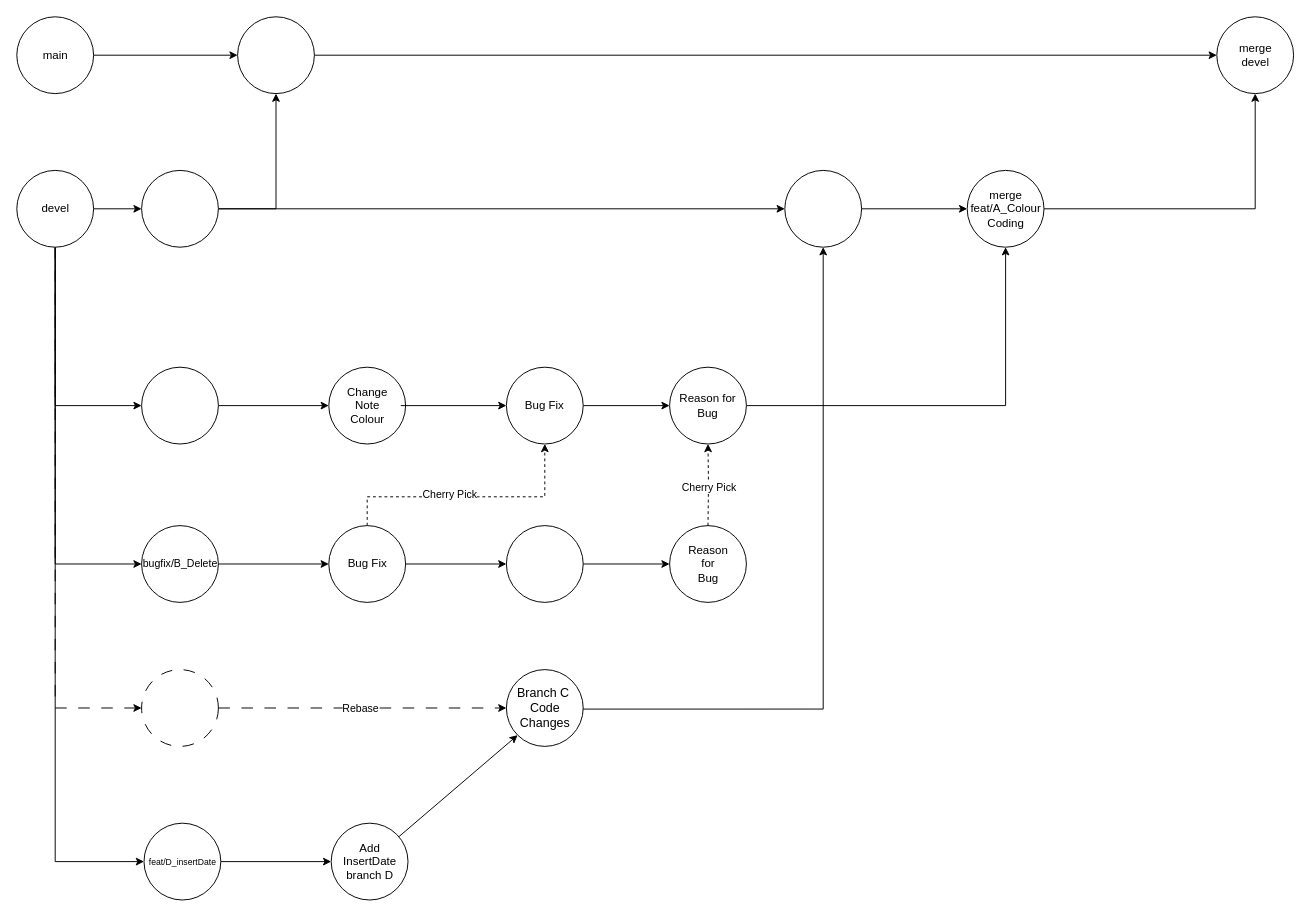
Some shapes in this 1310 by 917 pixel diagram are drawn without their labels. Here are the shapes that lost their labels. From the top down, the box of each, then its label:
(237, 16, 314, 94): Merge pull request template
(141, 169, 218, 247): Crate pull request template
(784, 169, 862, 247): merge feat/C_Search Notes
(141, 366, 218, 444): feat/A_ColourCoding
(505, 525, 583, 602): Add Background Color
(141, 669, 218, 746): feat/C_SearchNotes
